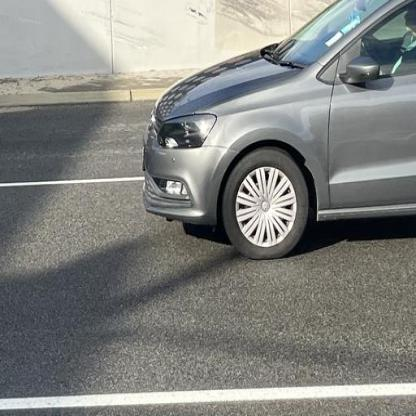Tire: (222, 144, 309, 261)
